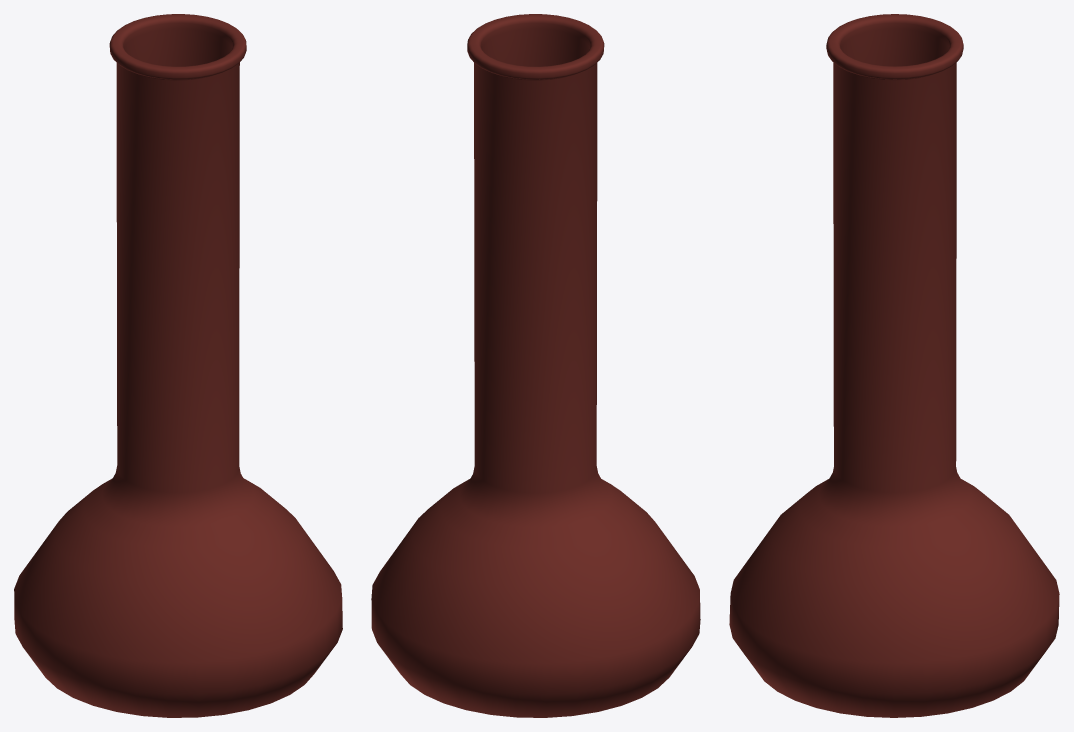
The model's file is tall clay pot.fbx.
The picture shows the model from 3 angles, left to right: view 1: azimuth 30°, elevation 25°; view 2: azimuth 150°, elevation 25°; view 3: azimuth 270°, elevation 25°; orthographic projection.
Visible parts, largest first — view 1: Circle; view 2: Circle; view 3: Circle.
Boxes of the visible parts, x1,y1,x2,y2 form: Circle: [14, 14, 342, 717]; Circle: [371, 14, 700, 717]; Circle: [729, 14, 1059, 717].
Bounding box in the file's own units: 240 × 497 × 241.
